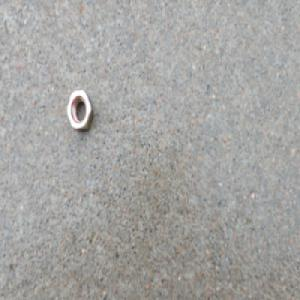Nut: (66, 86, 94, 132)
